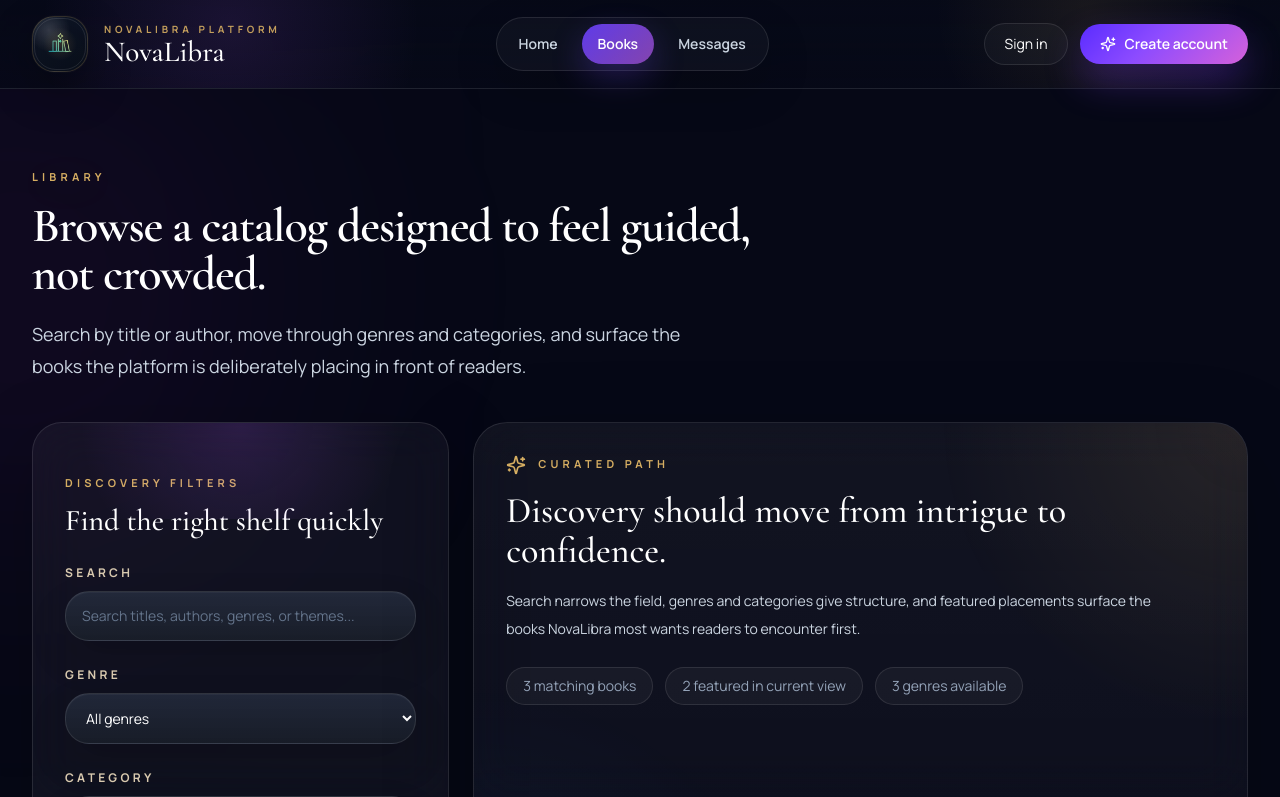
it: Book domain experience › books page shows a safe empty state when filters remove every result
Expected: the heading "Browse a catalog designed to feel guided, not crowded." is shown, [32,202,800,298]
Type "NoSuchNovaLibraBook" into the field labelled "Search" at (241, 616), box [65,591,416,641]
(page scrolled)
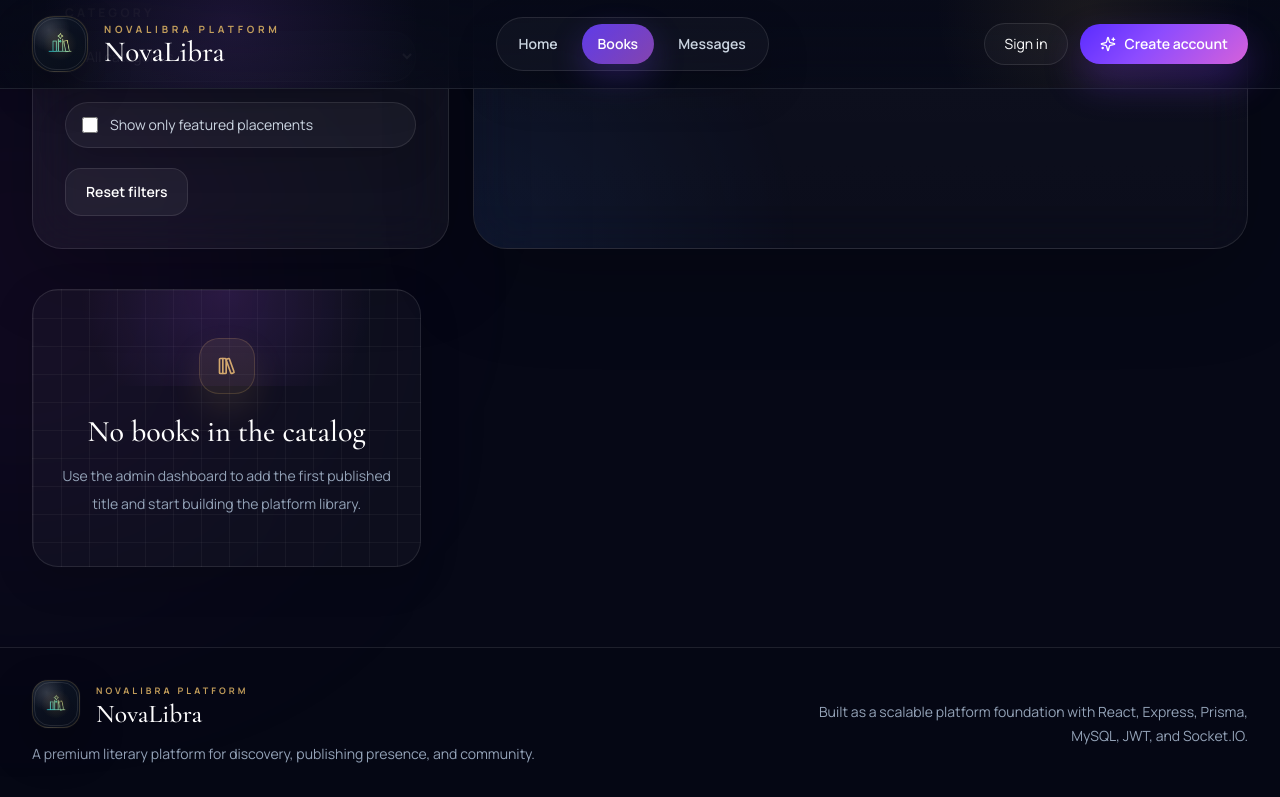
Result: the heading "No books in the catalog" is shown at [88,413,366,450]
